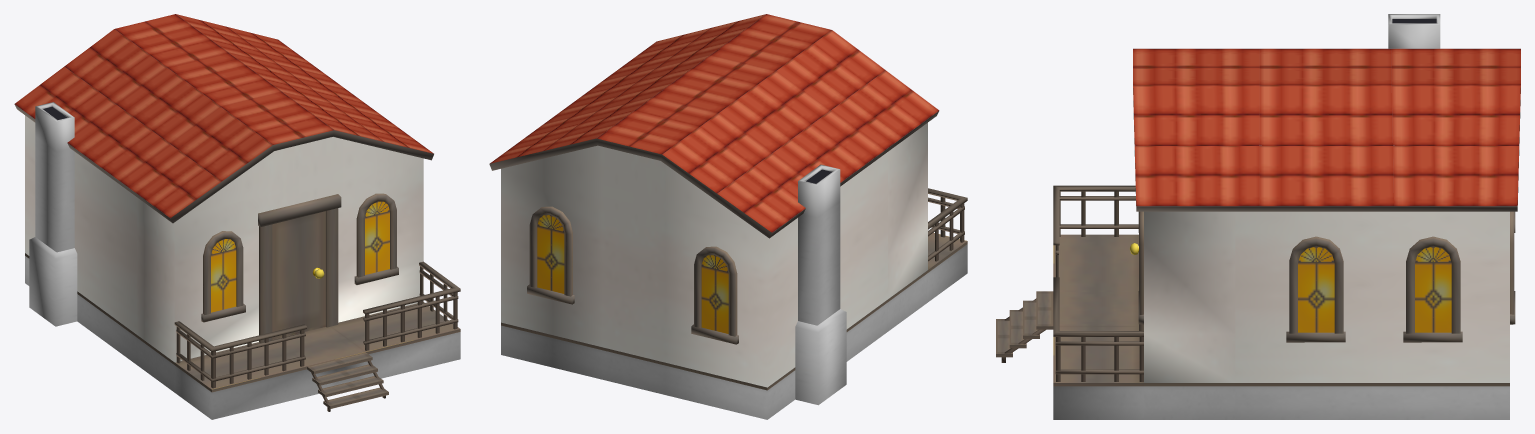
Rendered from Town House (Small) Variant 1.fbx.
The picture shows the model from 3 angles, left to right: view 1: azimuth 30°, elevation 25°; view 2: azimuth 150°, elevation 25°; view 3: azimuth 270°, elevation 25°; orthographic projection. The views are drawn at different scales.
Parts seen in each view (by area): view 1: Town House 2 V1; view 2: Town House 2 V1; view 3: Town House 2 V1.
Part boxes in pixels (<box>): Town House 2 V1: <box>14,14,460,419</box>; Town House 2 V1: <box>489,14,967,419</box>; Town House 2 V1: <box>996,14,1520,419</box>.
Bounding box in the file's own units: 625 × 490 × 836.
1 material, 1 textured.
